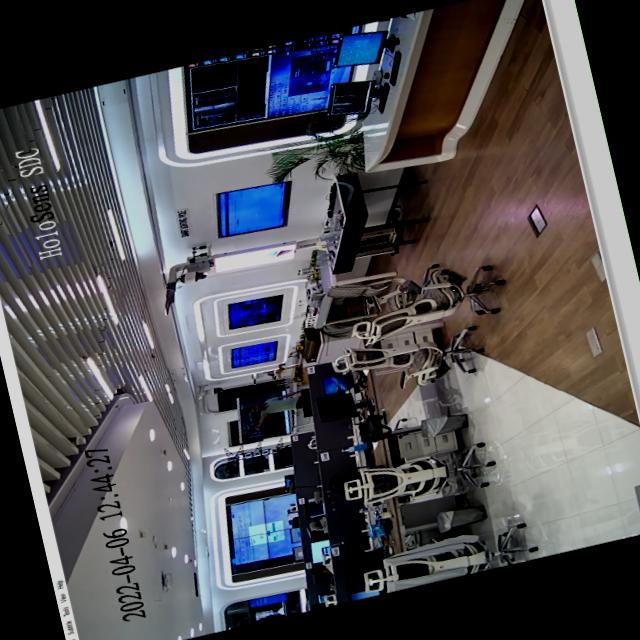long weapon: (228, 412, 274, 447)
